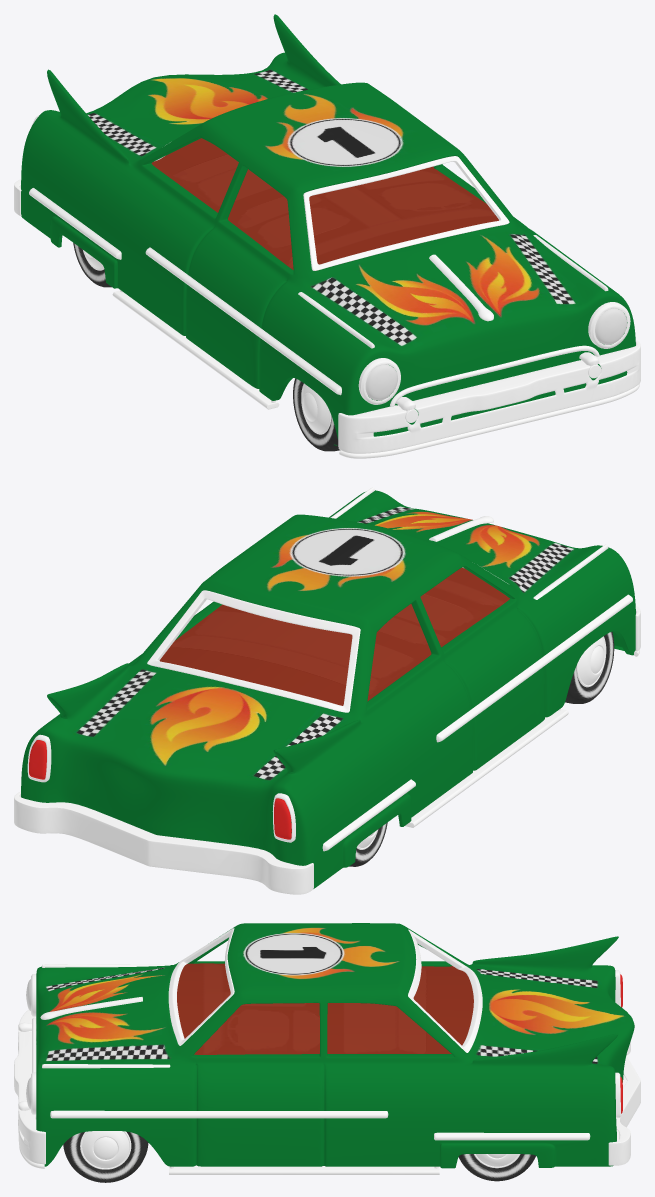
File: car.glb
3 renders of one model, top to bottom at view 1: azimuth 30°, elevation 25°; view 2: azimuth 150°, elevation 25°; view 3: azimuth 270°, elevation 25°, orthographic. The views are drawn at different scales.
Parts seen in each view (by area): view 1: ToyCar; view 2: ToyCar; view 3: ToyCar.
Part boxes in pixels (box(x1,y1,x2,y2)): ToyCar: box(14, 14, 640, 458); ToyCar: box(14, 487, 640, 894); ToyCar: box(14, 923, 640, 1182).
Bounding box in the file's own units: 613 × 381 × 1258.
2 materials, 1 textured.
